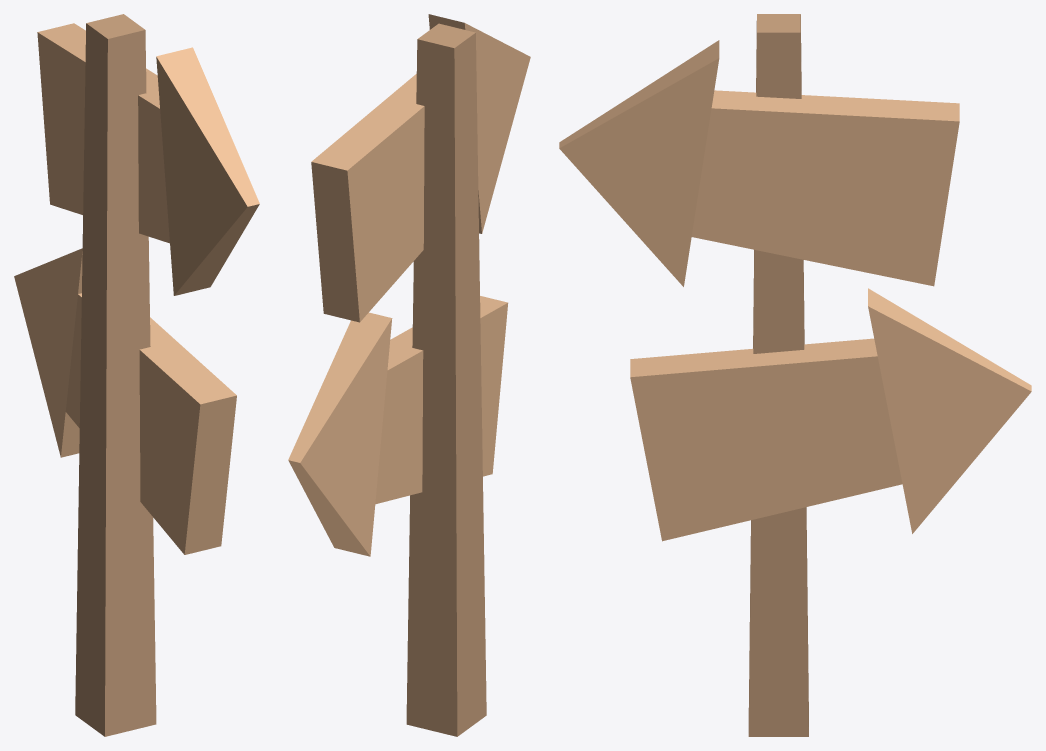
The model's file is arrows.glb.
3 views of the same model, side by side, from view 1: azimuth 30°, elevation 25°; view 2: azimuth 150°, elevation 25°; view 3: azimuth 270°, elevation 25° (orthographic). The views are drawn at different scales.
Visible parts, largest first — view 1: arrows(Clone), arrowLeft, arrowRight; view 2: arrows(Clone), arrowLeft, arrowRight; view 3: arrowLeft, arrowRight, arrows(Clone).
Boxes of the visible parts, box(x1,y1,x2,y2) form: arrows(Clone): box(75, 14, 156, 736); arrowLeft: box(37, 23, 259, 295); arrowRight: box(14, 248, 236, 554); arrows(Clone): box(406, 23, 486, 736); arrowLeft: box(311, 14, 530, 322); arrowRight: box(288, 296, 508, 556); arrowLeft: box(559, 40, 959, 286); arrowRight: box(630, 288, 1031, 541); arrows(Clone): box(748, 14, 808, 736).
Size of the model in its own units: 0.0998 by 0.9 by 0.55.
